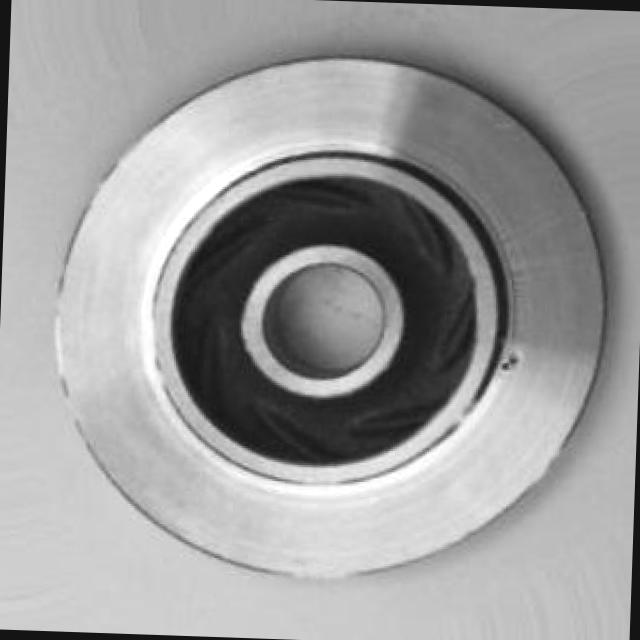Defect: (492, 348, 524, 377)
